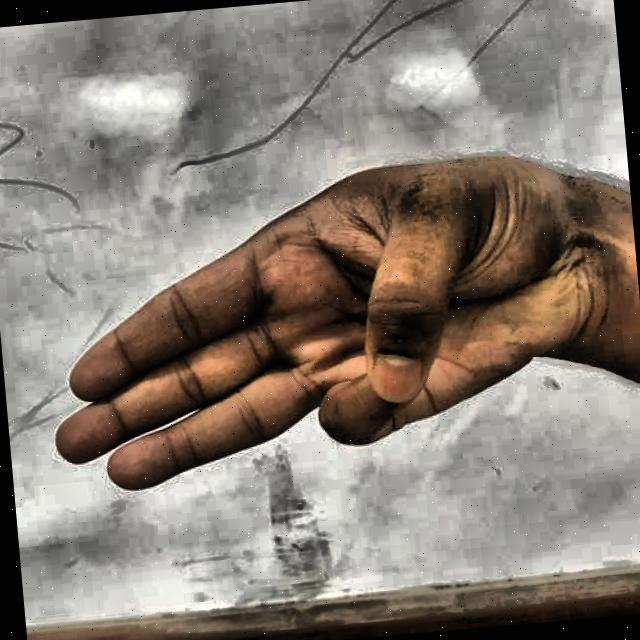Ma: (16, 127, 630, 516)
